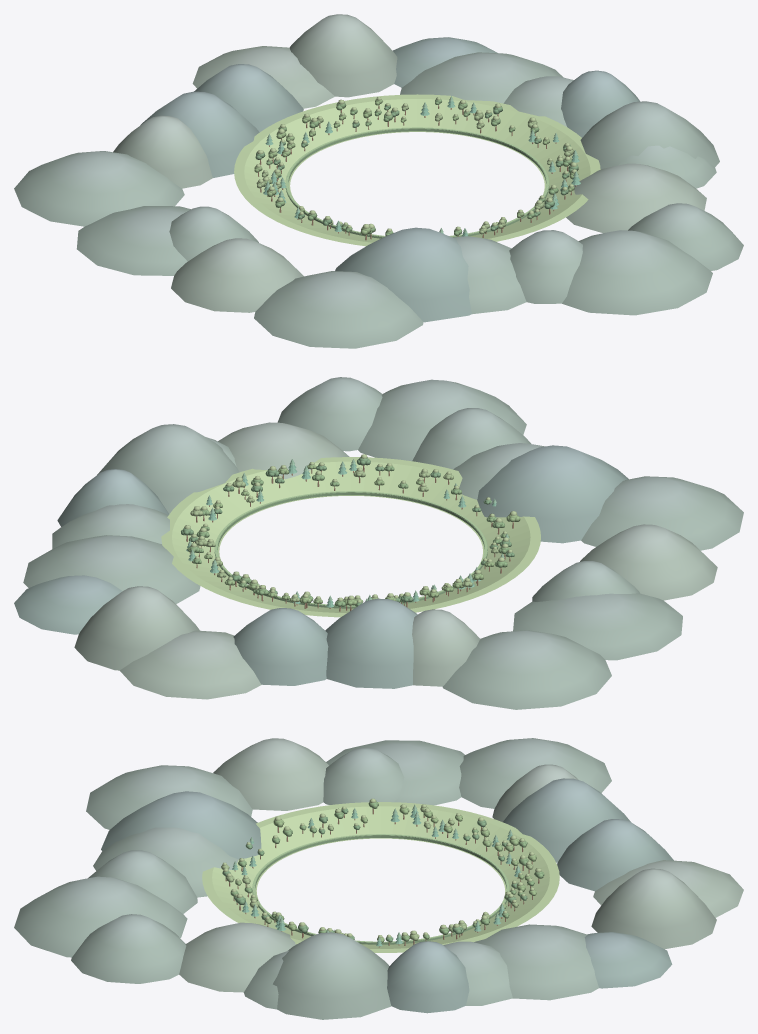
Rendered from env_hq.glb.
The picture shows the model from 3 angles, top to bottom: view 1: azimuth 30°, elevation 25°; view 2: azimuth 150°, elevation 25°; view 3: azimuth 270°, elevation 25°; orthographic projection. The views are drawn at different scales.
Parts seen in each view (by area): view 1: Env_far, Env_terrain, Env_props; view 2: Env_far, Env_terrain, Env_props; view 3: Env_far, Env_terrain, Env_props.
Part boxes in pixels (x1,y1,x2,y2): Env_far: (14,14,743,348); Env_terrain: (234,94,600,246); Env_props: (254,96,580,240); Env_far: (14,377,743,709); Env_terrain: (161,457,540,617); Env_props: (181,454,520,611); Env_far: (14,738,743,1019); Env_terrain: (202,802,559,952); Env_props: (221,798,544,947).
Size of the model in its own units: 266 by 23.6 by 294.
